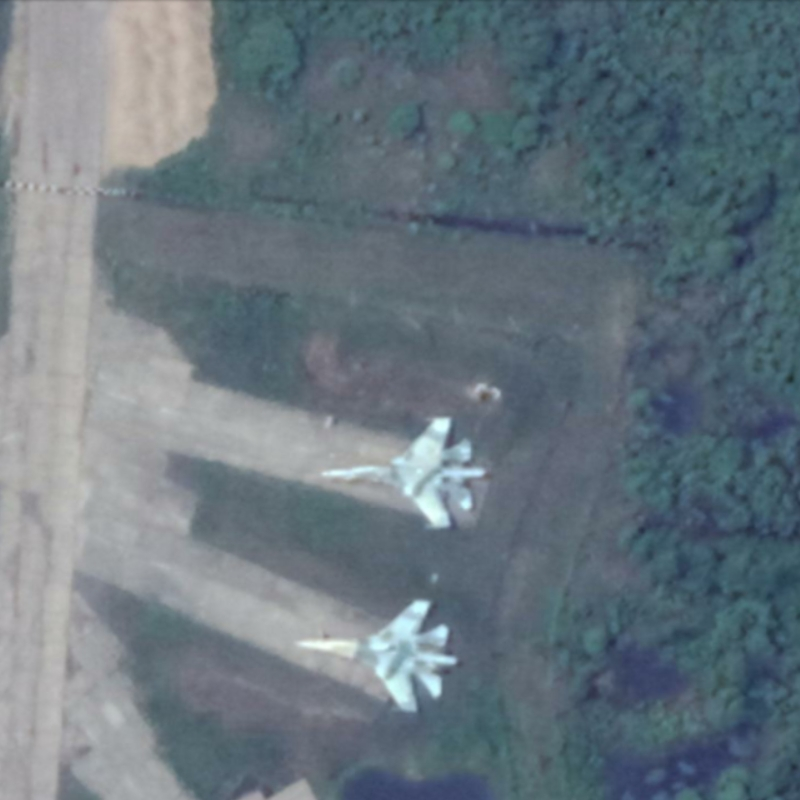A1: (316, 412, 489, 534), (291, 594, 462, 716)
